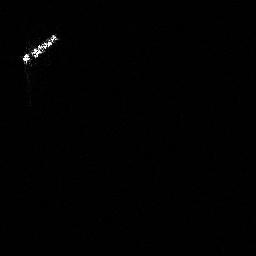ship: (17, 29, 60, 69)
